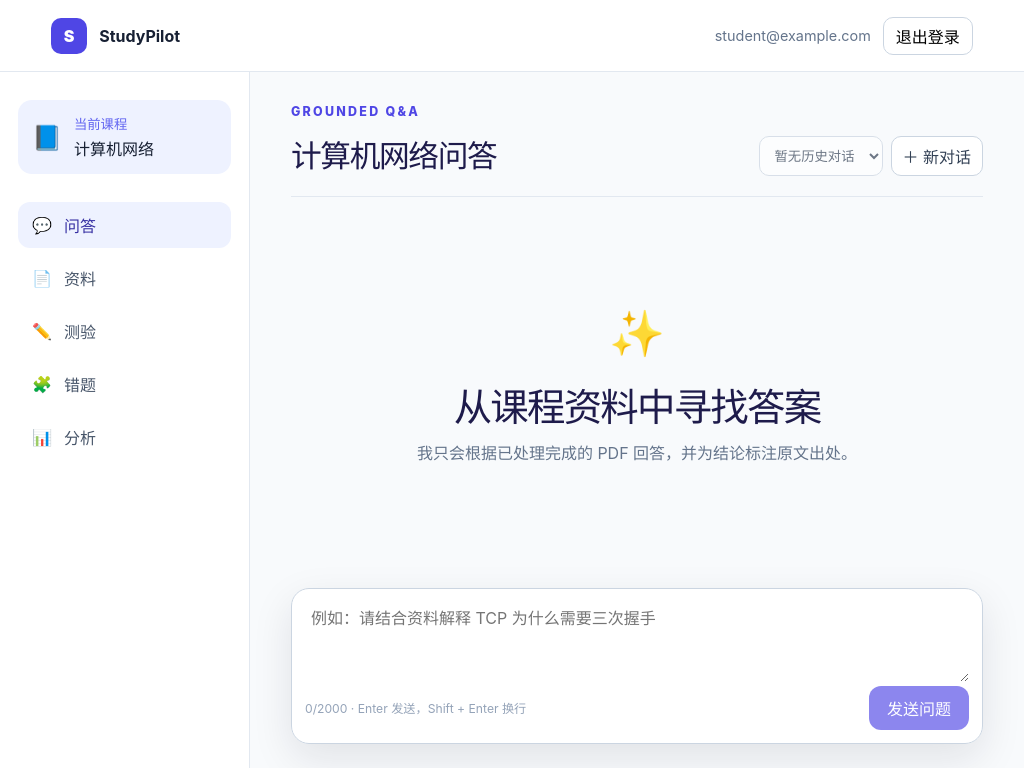
Test: cited course chat › shows an optimistic question, locks sending, and renders cited answer
This screenshot has width=1024, height=768.
Type "TCP 为什么需要三次握手？" into the text box named "向课程资料提问" at (637, 642), box [305,602,969,682]
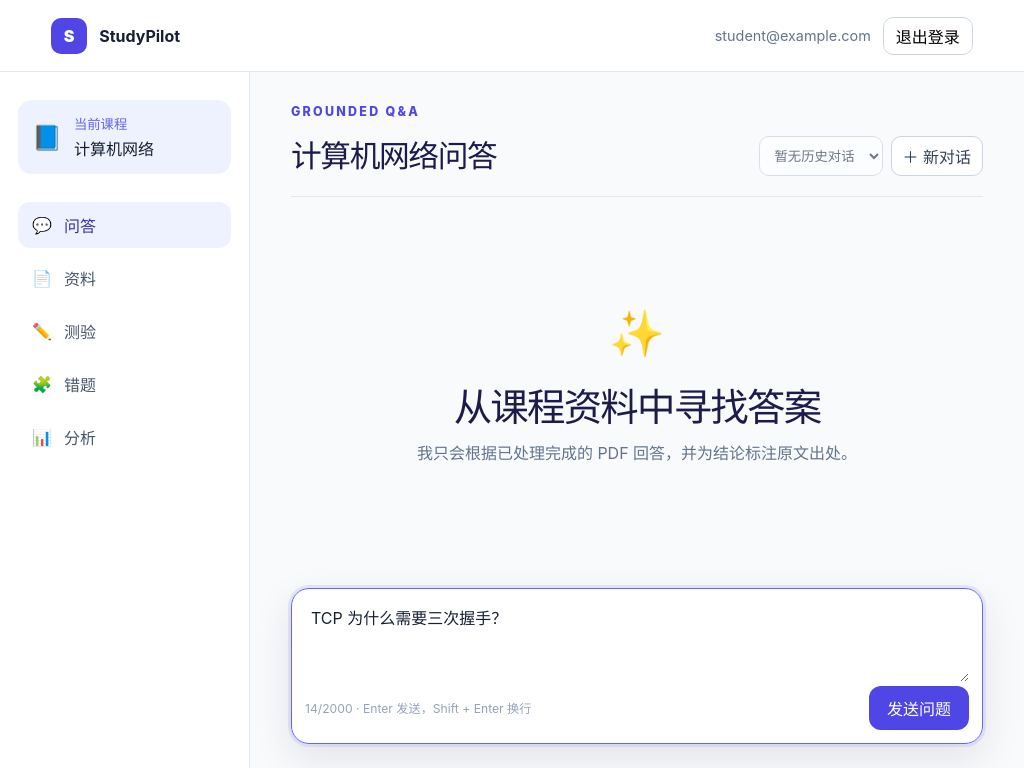
Click the button "发送问题" at (919, 708), box [869,686,969,730]
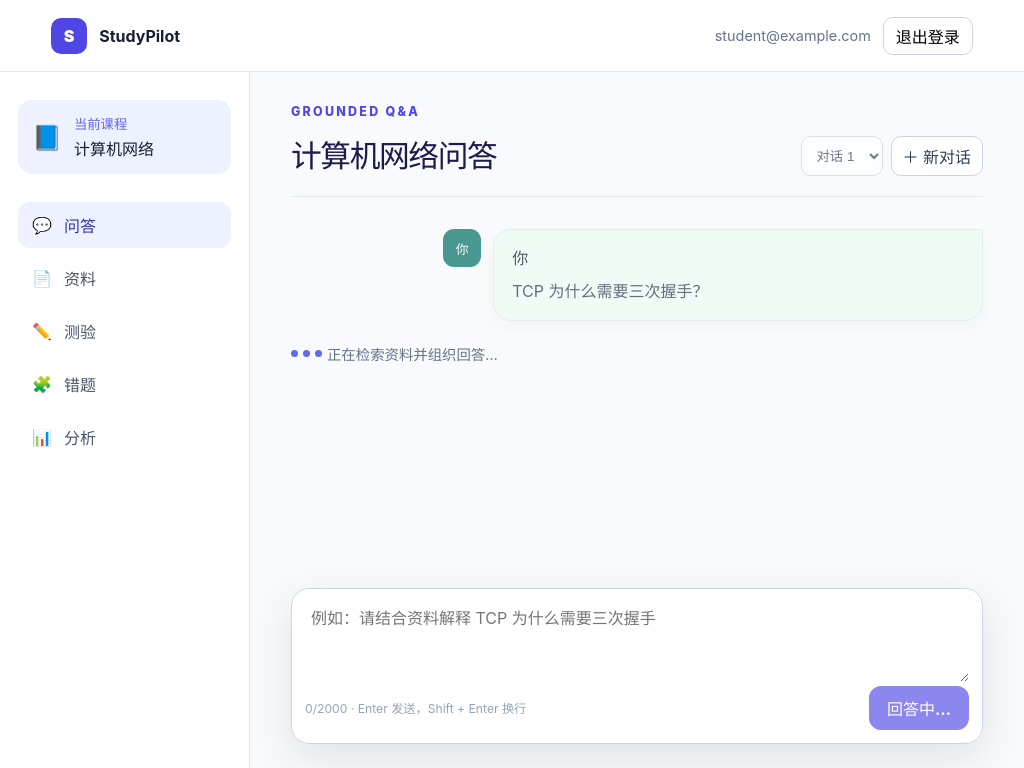
Now the text "TCP 为什么需要三次握手？" is shown, box [512,281,708,301]
Now the message shows "正在检索资料", box [327,346,498,363]
Now the button "回答中…" is disabled
Click the button "回答中…" at (919, 708), box [869,686,969,730]
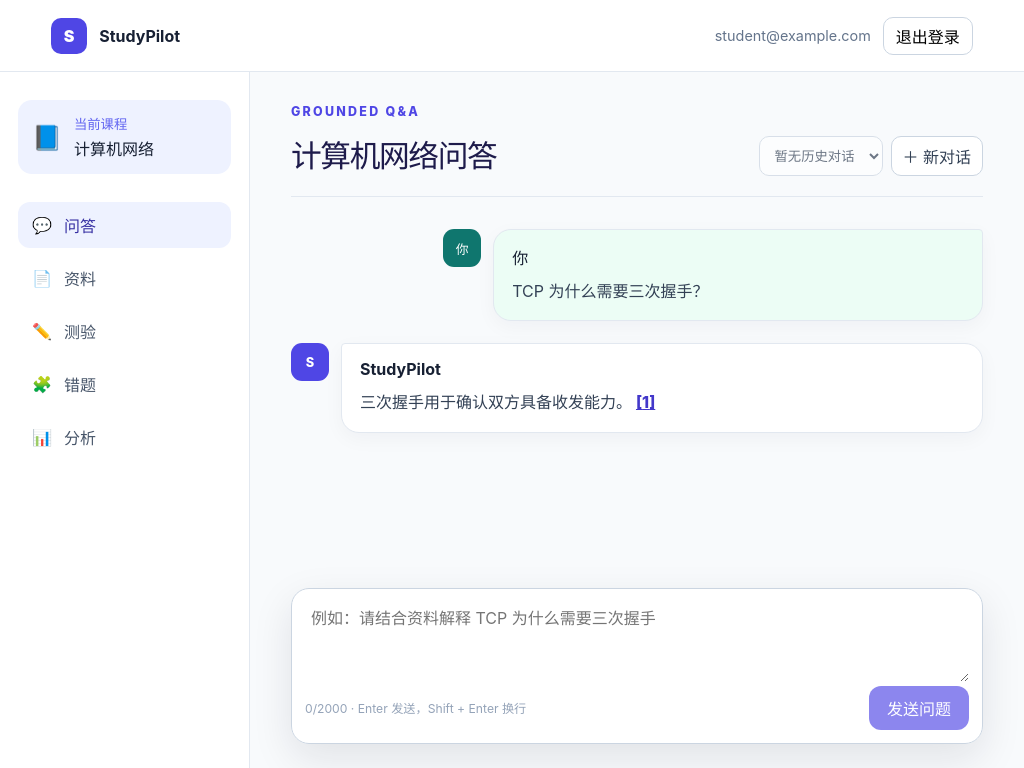
Now the text "三次握手用于确认双方具备收发能力。" is shown, box [360,392,632,412]
Now the button named "查看引用 1" reads "[1]", box [632,387,659,417]
